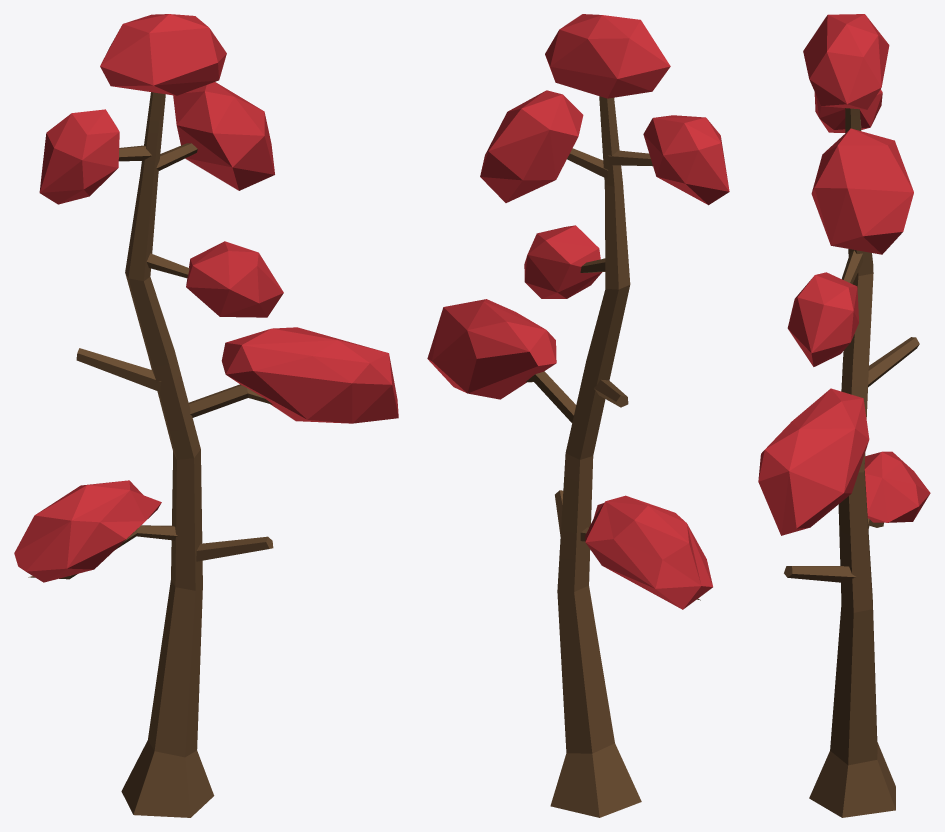
The model's file is japan_japan-tree-tall.fbx.
3 renders of one model, left to right at view 1: azimuth 30°, elevation 25°; view 2: azimuth 150°, elevation 25°; view 3: azimuth 270°, elevation 25°, orthographic. The views are drawn at different scales.
Visible parts, largest first — view 1: japan_japan_tree_tall; view 2: japan_japan_tree_tall; view 3: japan_japan_tree_tall.
Part boxes in pixels (left/top/right/bottom): japan_japan_tree_tall: left=14, top=14, right=398, bottom=817; japan_japan_tree_tall: left=427, top=14, right=729, bottom=817; japan_japan_tree_tall: left=758, top=14, right=930, bottom=817.
Size of the model in its own units: 87.83 by 200 by 40.32.
